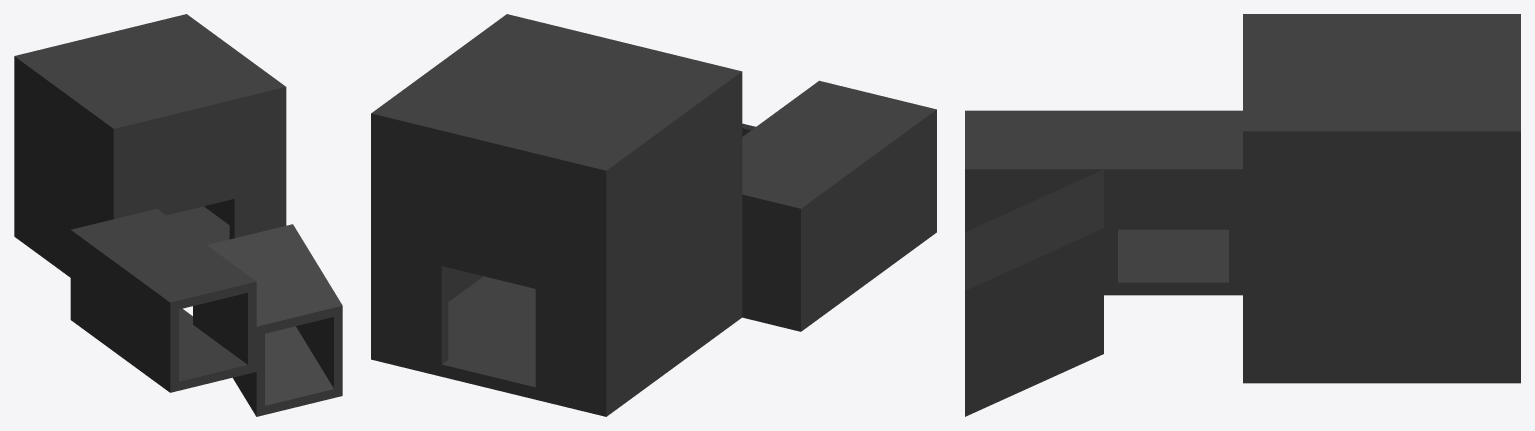
File: gridmap.glb
3 views of the same model, side by side, from view 1: azimuth 30°, elevation 25°; view 2: azimuth 150°, elevation 25°; view 3: azimuth 270°, elevation 25° (orthographic). The views are drawn at different scales.
Parts seen in each view (by area): view 1: TunnelRoom, Tunnel, TunnelRamp, TunnelTurn; view 2: TunnelRoom, TunnelTurn, Tunnel; view 3: TunnelRoom, TunnelTurn, TunnelRamp, Tunnel.
Boxes of the visible parts, x1=… form: TunnelRoom: x1=14, y1=14, x2=286, y2=277; Tunnel: x1=120, y1=245, x2=256, y2=392; TunnelRamp: x1=207, y1=224, x2=342, y2=416; TunnelTurn: x1=70, y1=208, x2=206, y2=355; TunnelRoom: x1=371, y1=14, x2=742, y2=416; TunnelTurn: x1=742, y1=130, x2=868, y2=331; Tunnel: x1=751, y1=80, x2=936, y2=281; TunnelRoom: x1=1243, y1=14, x2=1520, y2=383; TunnelTurn: x1=1104, y1=110, x2=1242, y2=295; TunnelRamp: x1=965, y1=169, x2=1103, y2=416; Tunnel: x1=965, y1=110, x2=1103, y2=231.
Bounding box in the file's own units: 25 × 25 × 40.
1 material, 1 textured.
